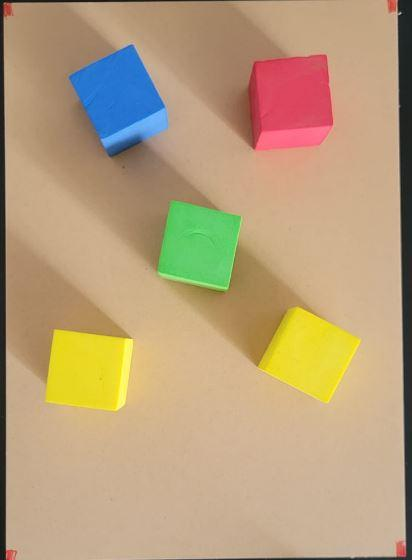cube: (72, 43, 165, 158), (259, 306, 362, 403), (158, 201, 243, 292), (251, 54, 332, 149), (45, 328, 130, 412)
